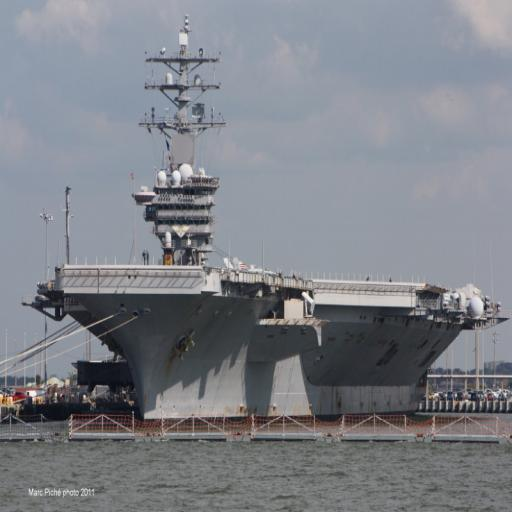Portanaves: (30, 14, 501, 431)
